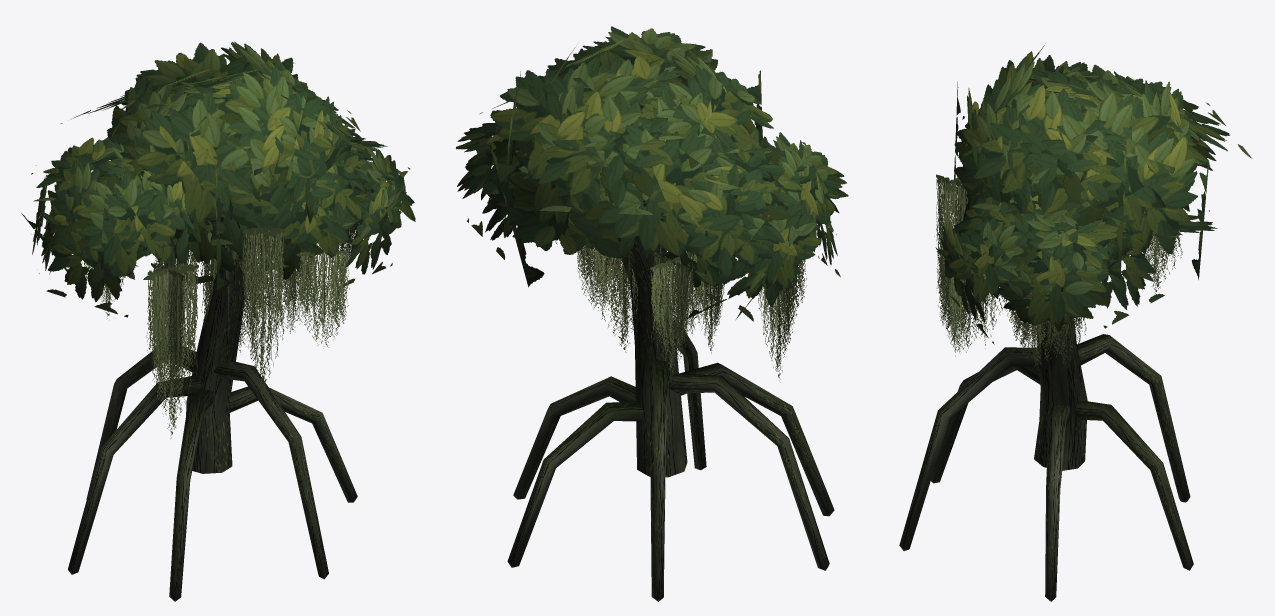
File: mirewell_bog_tree_a.glb
3 renders of one model, left to right at view 1: azimuth 30°, elevation 25°; view 2: azimuth 150°, elevation 25°; view 3: azimuth 270°, elevation 25°, orthographic. The views are drawn at different scales.
Parts seen in each view (by area): view 1: mirewell_bog_tree_a; view 2: mirewell_bog_tree_a; view 3: mirewell_bog_tree_a.
Part boxes in pixels (left/top/right/bottom): mirewell_bog_tree_a: left=21, top=42, right=415, bottom=601; mirewell_bog_tree_a: left=456, top=26, right=848, bottom=601; mirewell_bog_tree_a: left=899, top=43, right=1252, bottom=601.
Size of the model in its own units: 3.39 by 4.29 by 2.78.
Materials: 3 (3 with a texture image).
